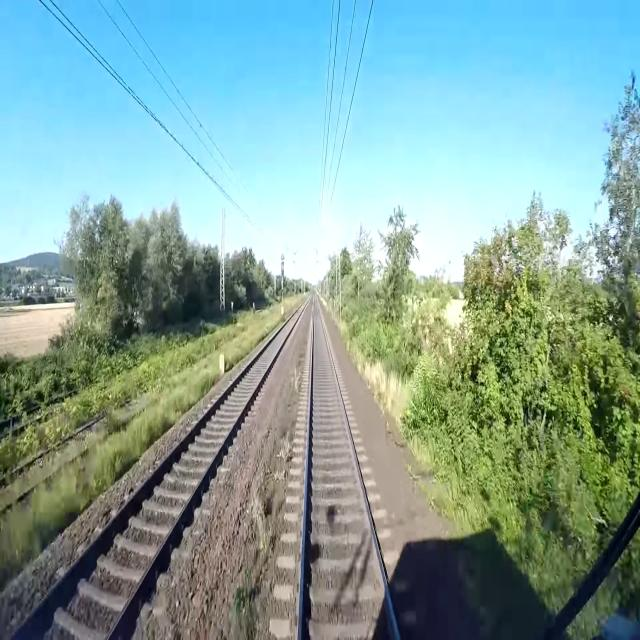rail-track: (12, 303, 305, 639), (302, 296, 395, 639)
